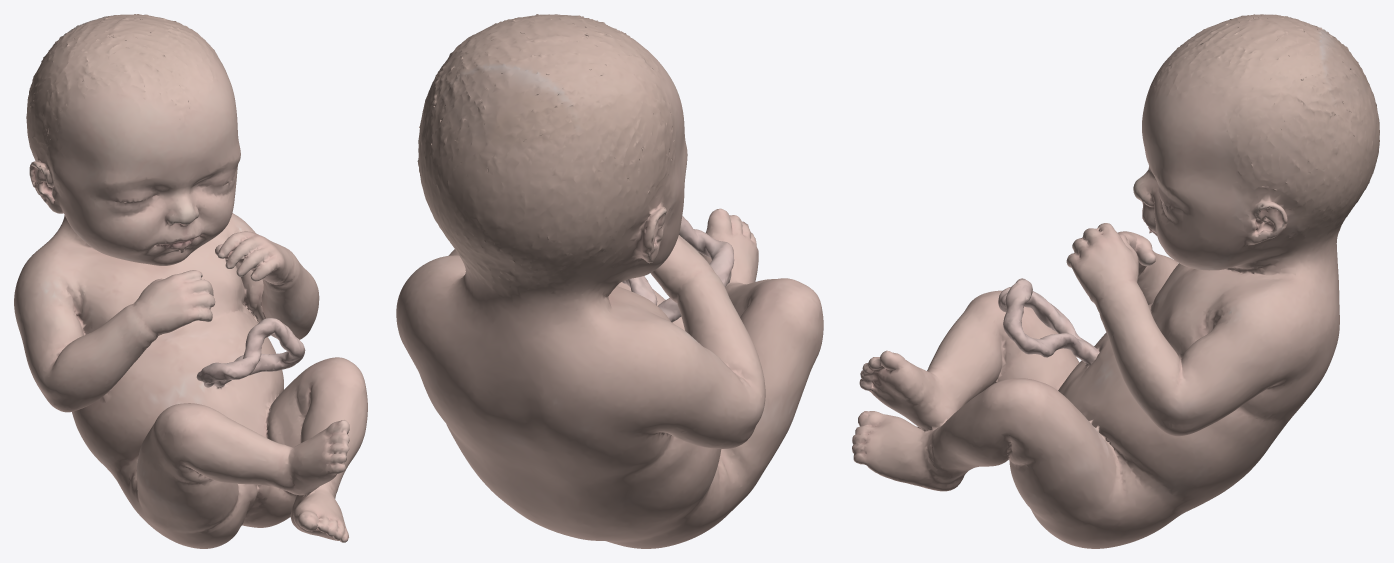
File: semaine-32.glb
3 renders of one model, left to right at view 1: azimuth 30°, elevation 25°; view 2: azimuth 150°, elevation 25°; view 3: azimuth 270°, elevation 25°, orthographic. The views are drawn at different scales.
Size of the model in its own units: 1.24 by 2 by 1.93.
